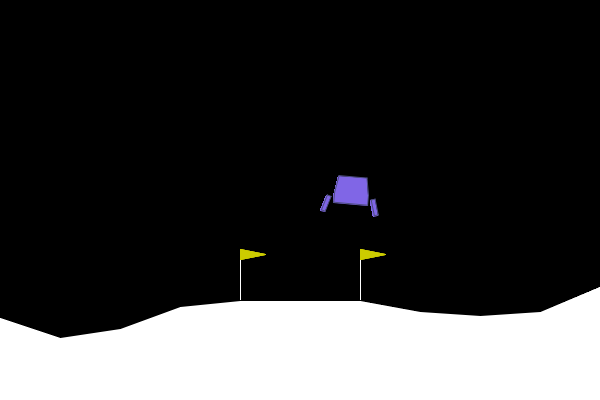lander: (319, 172, 383, 218)
